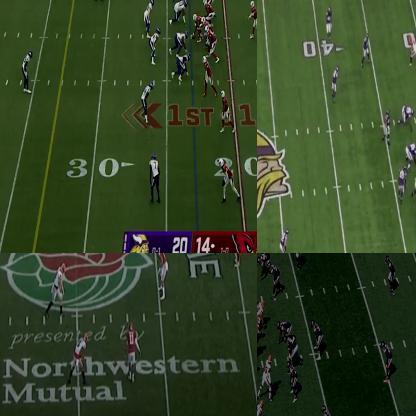CENTER: (257, 297, 267, 322), (193, 13, 201, 40)
DB: (148, 152, 162, 206), (125, 323, 138, 380), (155, 253, 168, 299), (140, 84, 154, 124), (22, 50, 32, 93), (388, 255, 399, 293), (384, 341, 393, 382), (278, 228, 288, 252), (332, 67, 338, 98), (326, 6, 332, 35), (234, 253, 245, 267), (324, 404, 335, 415)
LB: (143, 0, 155, 39), (149, 28, 161, 67), (314, 321, 324, 356), (291, 362, 299, 400), (398, 166, 406, 198), (362, 33, 370, 60), (384, 109, 390, 138), (292, 253, 303, 268)
QB: (248, 0, 256, 43)
SKILL: (218, 158, 241, 204), (69, 331, 89, 381), (49, 264, 66, 313), (221, 90, 236, 133), (202, 56, 217, 96), (260, 357, 274, 397), (409, 36, 415, 63)
